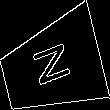N_W: (29, 41, 75, 94)
